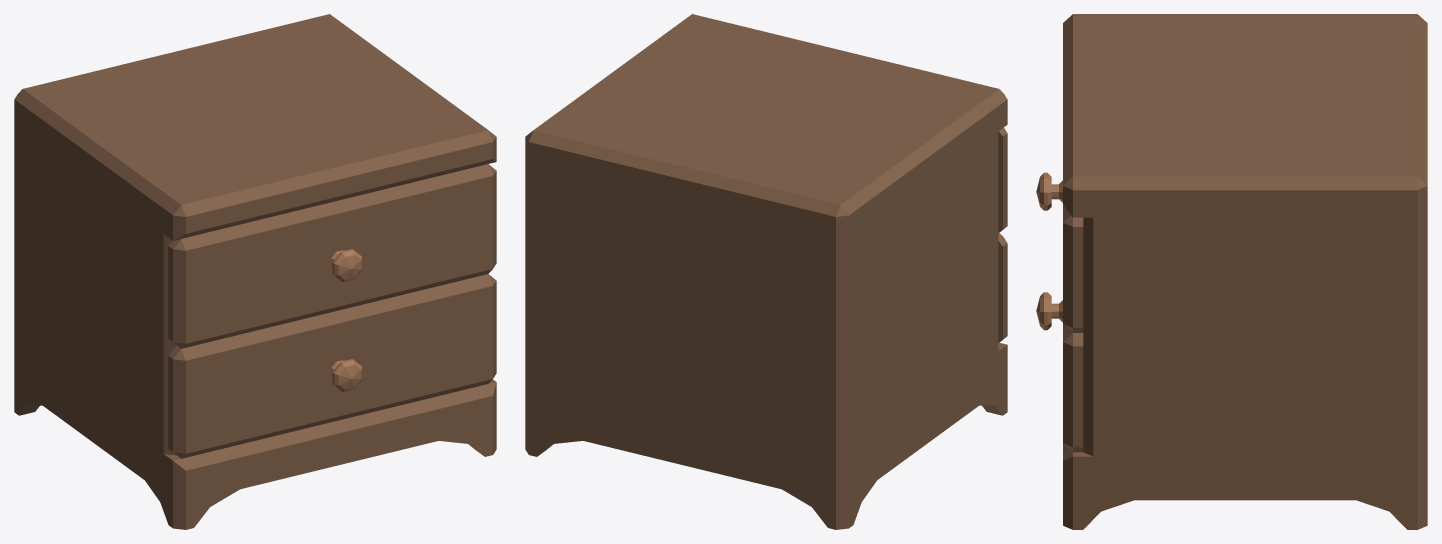
File: Prop_Bedroom_Dresser_Single.obj
The picture shows the model from 3 angles, left to right: view 1: azimuth 30°, elevation 25°; view 2: azimuth 150°, elevation 25°; view 3: azimuth 270°, elevation 25°; orthographic projection. The views are drawn at different scales.
Parts seen in each view (by area): view 1: object3, object2, object1; view 2: object3, object2, object1; view 3: object3, object2, object1.
Boxes of the visible parts, x1,y1,x2,y2 form: object3: (14, 14, 496, 529); object2: (168, 274, 496, 458); object1: (168, 164, 496, 348); object3: (525, 14, 1007, 529); object2: (998, 233, 1007, 343); object1: (998, 127, 1007, 233); object3: (1063, 14, 1427, 529); object2: (1036, 292, 1083, 452); object1: (1036, 172, 1083, 332).
Size of the model in its own units: 1 by 0.95 by 0.9656.
